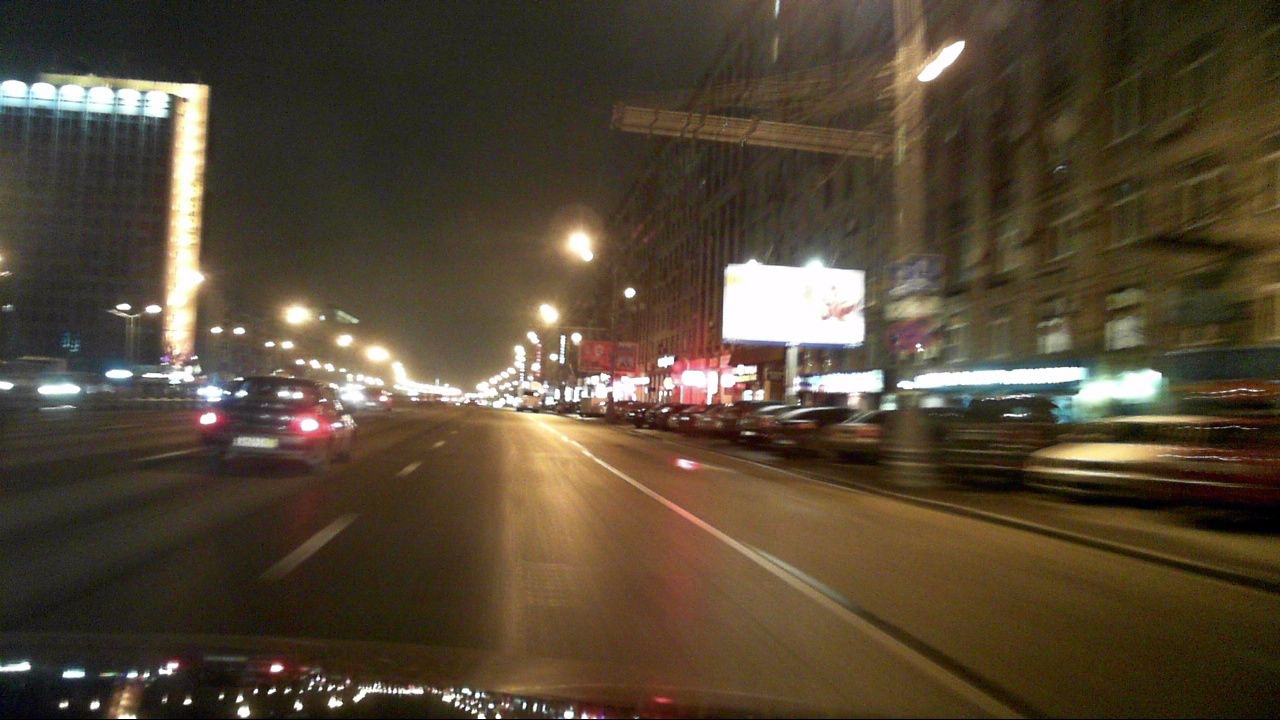No Parking: (900, 314, 936, 351)
